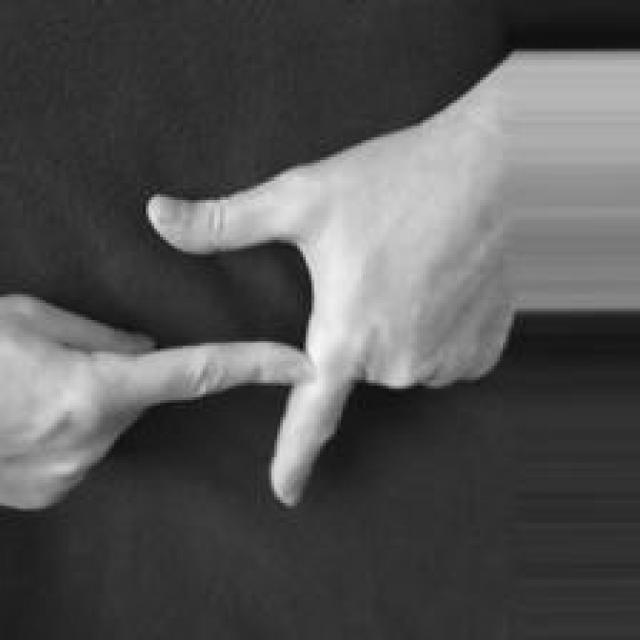F: (0, 138, 515, 512)
